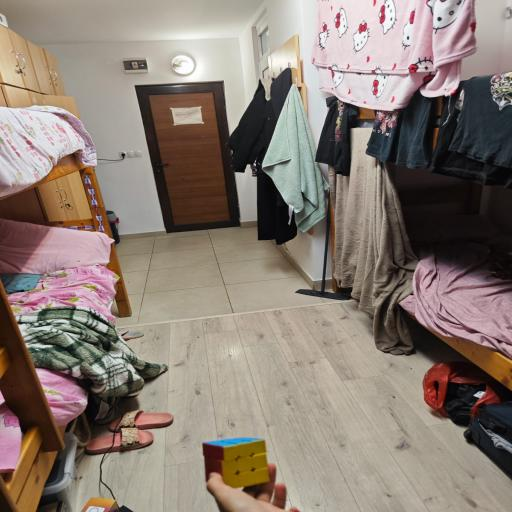Rubiks Cube: (198, 436, 279, 486)
